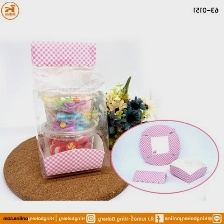snack: (25, 28, 117, 185)
